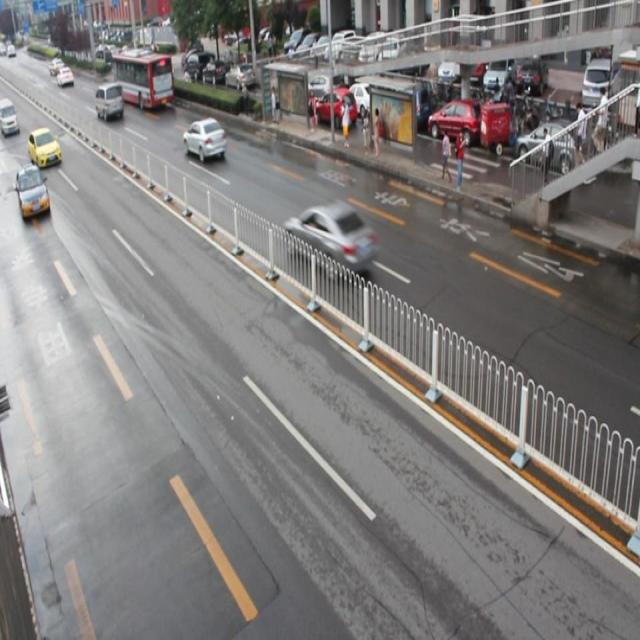car: (284, 200, 376, 278), (16, 162, 51, 220), (183, 116, 225, 162)
van: (112, 51, 174, 109)
